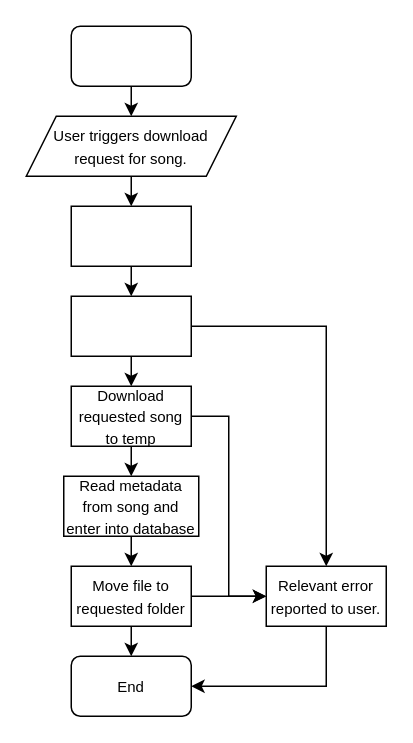
Some shapes in this 413 by 743 pixel diagram are drawn without their labels. The shapes that lost their labels are listed below. From the top down, each one's centre as x and y in pixels, then its label:
point 130,55: Start
point 130,235: Retrieve config from database & format
point 130,325: Get video code/url
